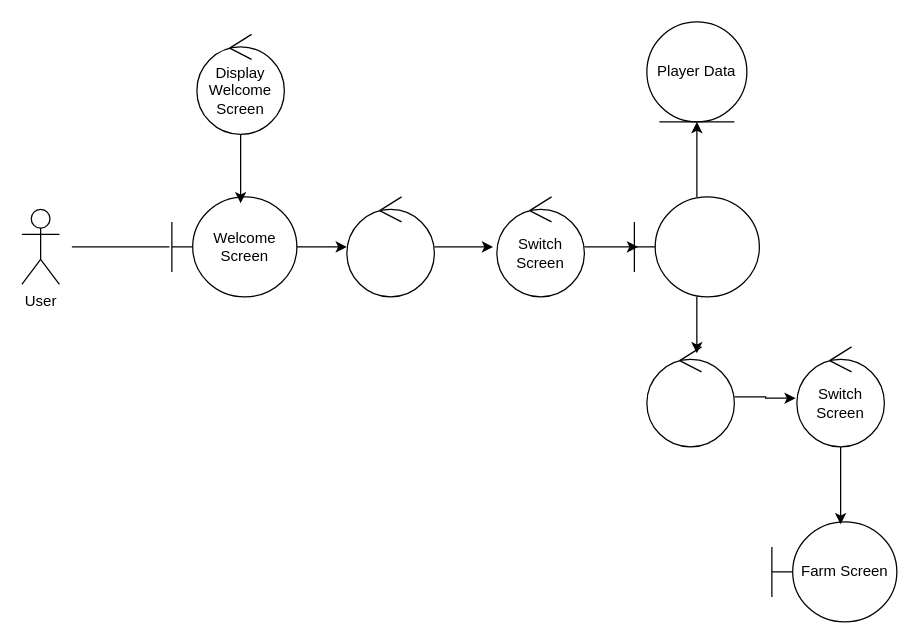
Some shapes in this 919 by 644 pixel diagram are drawn without their labels. Each missing label, with the box of its shape:
Player Config Screen: (633, 196, 759, 297)
Press Enter Game: (346, 196, 434, 297)
Press Start Game: (646, 346, 734, 447)
